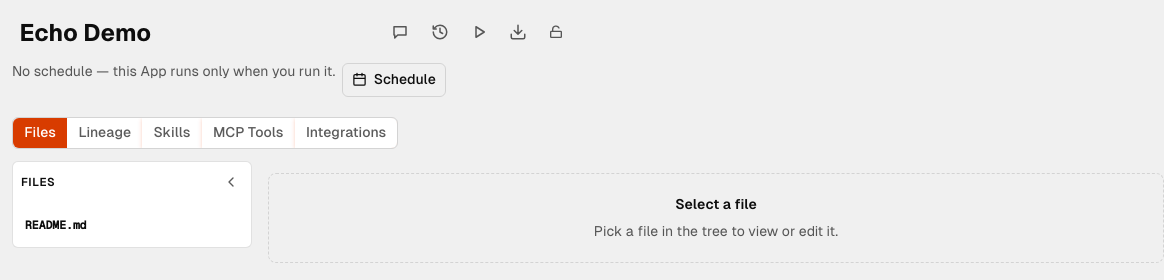
App IDE shell (POC-5d) › the Files rail is a collapsible sidebar (hides/shows the tree, persisted)
Expected: the element with test id "app-files-sidebar" is shown, [12,161,252,248]
Expected: the button with test id "file-README.md" is shown, [21,213,243,239]
Click the button with test id "app-files-collapse": x=231, y=182 [219,170,243,195]
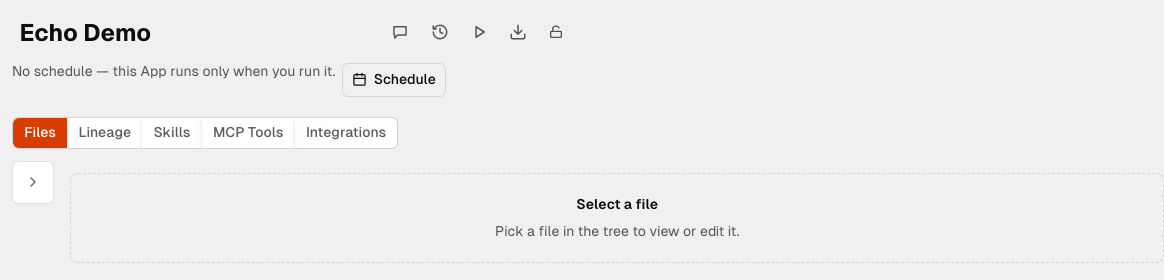
Click the button with test id "app-files-collapse": x=33, y=182 [21,170,45,195]
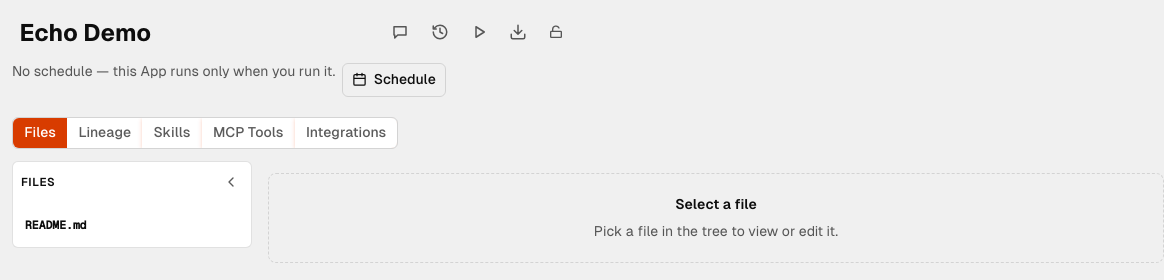
Expected: the button with test id "file-README.md" is shown, [21,213,243,239]
